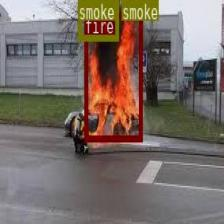fire: (84, 12, 142, 140)
smoke: (78, 0, 118, 40), (121, 0, 137, 17)
